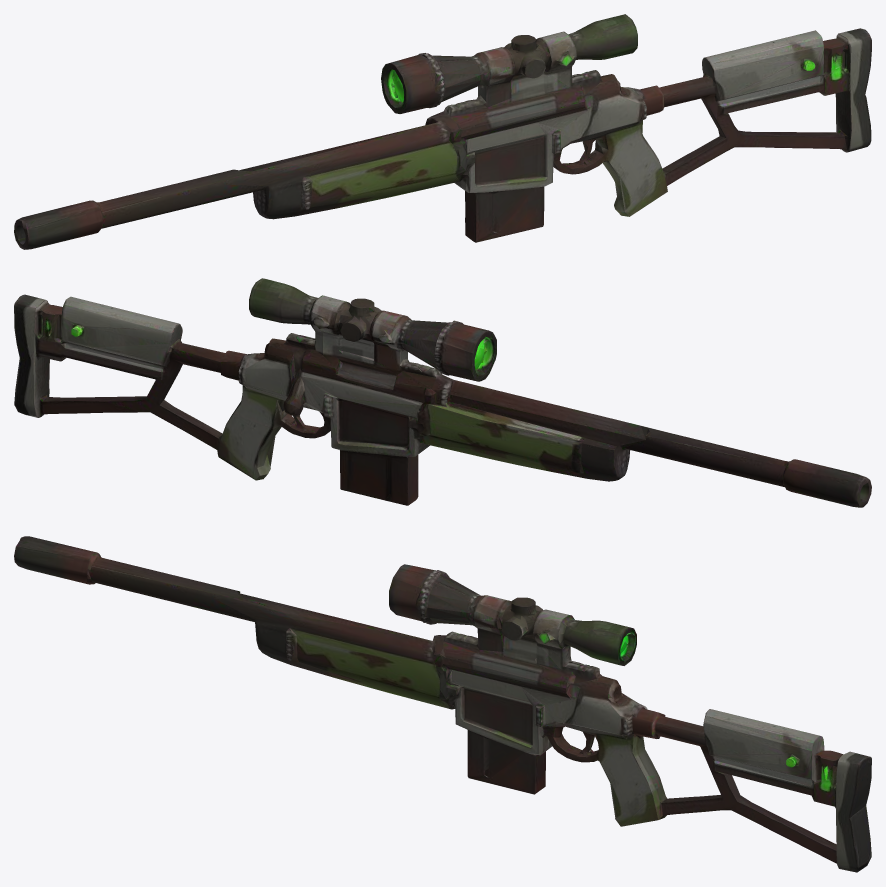
File: gun_longshot.glb
The picture shows the model from 3 angles, top to bottom: view 1: azimuth 30°, elevation 25°; view 2: azimuth 150°, elevation 25°; view 3: azimuth 330°, elevation 25°; orthographic projection.
Bounding box in the file's own units: 1.9 × 0.4397 × 0.1284.
1 material, 1 textured.
